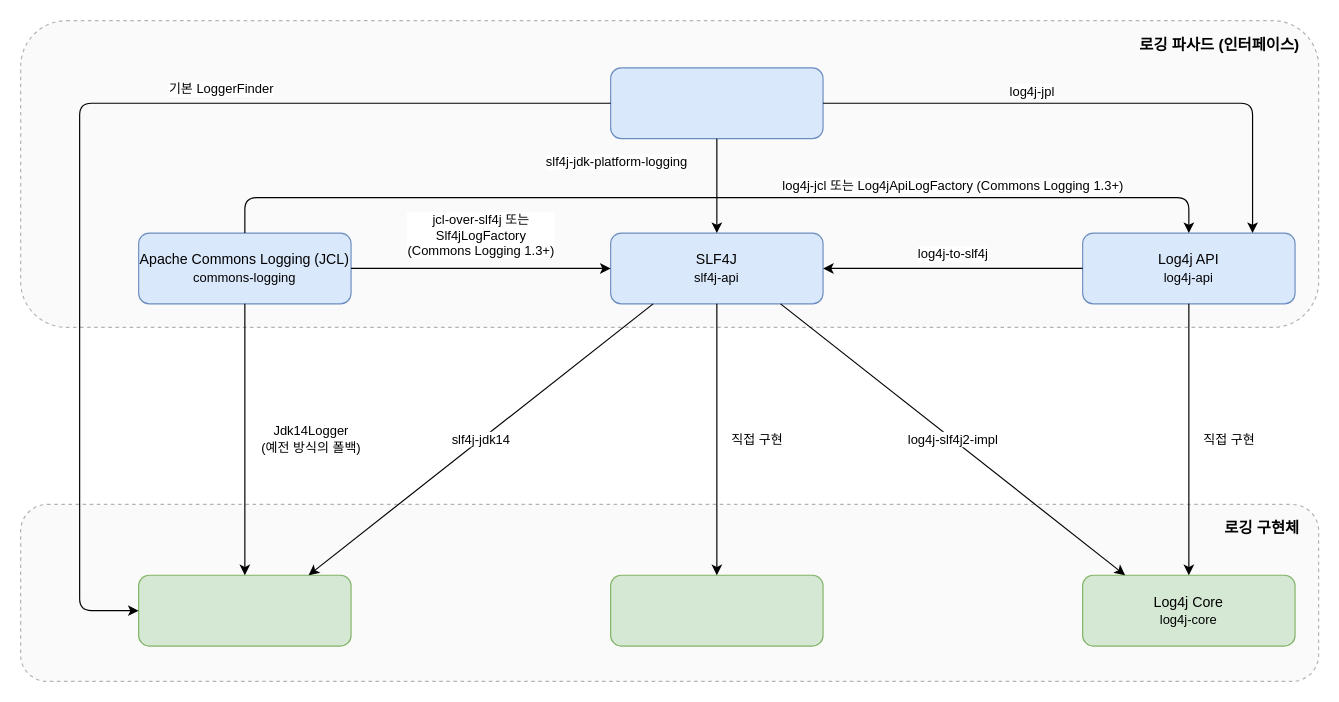
Image size: 1339x702. Some labels were removed from this diagram. Each missing label, with the centre of its shape:
"java.util.logging (JUL) JDK의 java.logging 모듈" goes at (244,610).
"Logback logback-classic" goes at (716,610).
"System.Logger JDK의 java.base 모듈" goes at (716,103).
